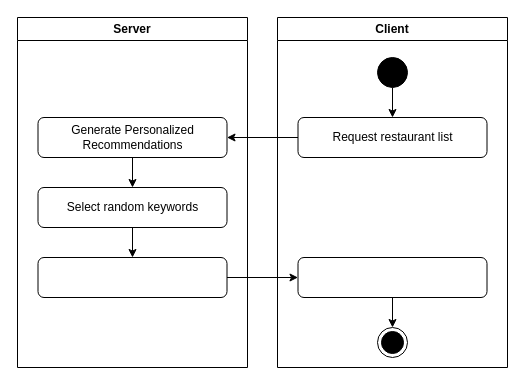
Image size: 525x385. Some labels were removed from this diagram. The centre of each missing label's shape, as x and y in pixels:
"Fetch restaurants based on keywords" belongs at [132,277].
"Show restaurant list" belongs at [392,277].
